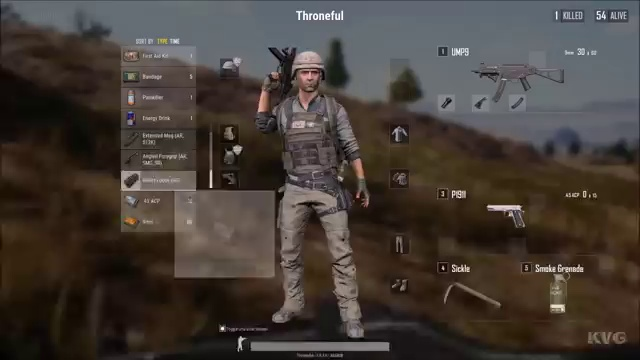Player: (255, 46, 378, 322)
